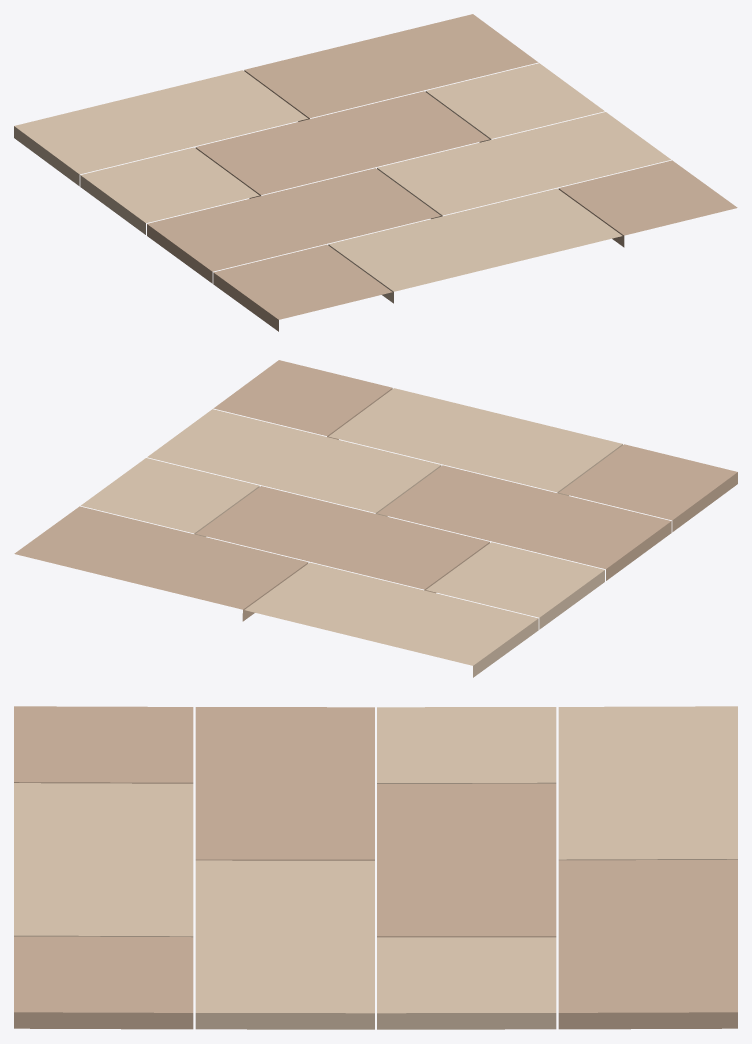
Rendered from ext_paving_plaza_02.glb.
The picture shows the model from 3 angles, top to bottom: view 1: azimuth 30°, elevation 25°; view 2: azimuth 150°, elevation 25°; view 3: azimuth 270°, elevation 25°; orthographic projection. The views are drawn at different scales.
Parts seen in each view (by area): view 1: Pavers_Alt, Pavers; view 2: Pavers_Alt, Pavers; view 3: Pavers_Alt, Pavers.
Boxes of the visible parts, x1,y1,x2,y2 form: Pavers_Alt: (147, 14, 737, 331); Pavers: (14, 63, 670, 303); Pavers_Alt: (14, 360, 737, 621); Pavers: (81, 388, 622, 677); Pavers_Alt: (14, 706, 737, 1029); Pavers: (14, 706, 737, 1029).
Size of the model in its own units: 1.99 by 0.0527 by 1.99.
